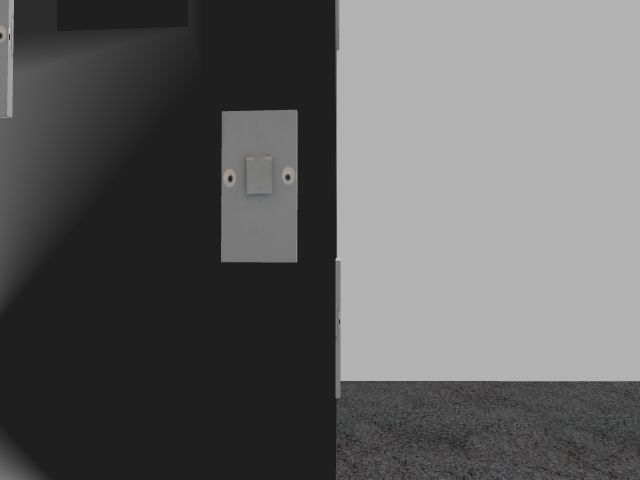facade: (222, 154, 295, 197)
